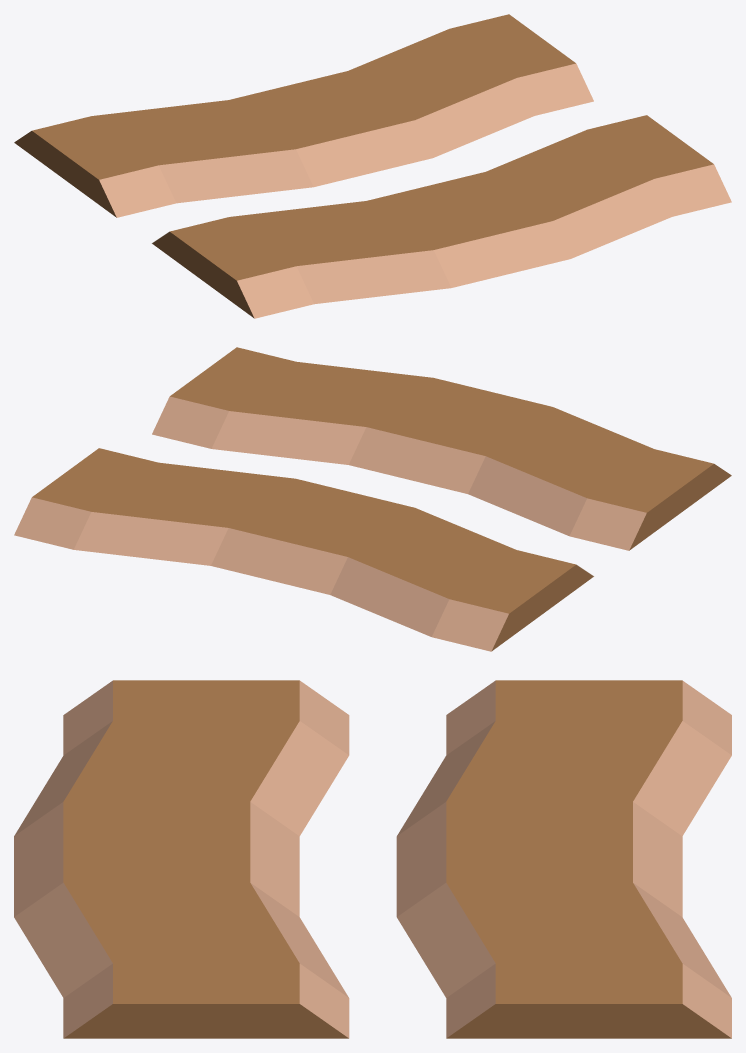
Rendered from crops_dirtDoubleRow.glb.
3 renders of one model, top to bottom at view 1: azimuth 30°, elevation 25°; view 2: azimuth 150°, elevation 25°; view 3: azimuth 270°, elevation 25°, orthographic. The views are drawn at different scales.
Parts seen in each view (by area): view 1: crops_dirtDoubleRow; view 2: crops_dirtDoubleRow; view 3: crops_dirtDoubleRow.
Part boxes in pixels (x1,y1,x2,y2): crops_dirtDoubleRow: [14, 14, 731, 318]; crops_dirtDoubleRow: [14, 347, 731, 651]; crops_dirtDoubleRow: [14, 680, 731, 1038].
Size of the model in its own units: 1 by 0.05 by 0.938.
